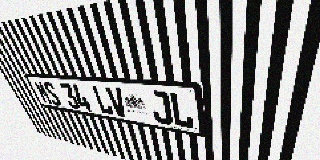3: (59, 83, 81, 110)
4: (70, 84, 93, 112)
J: (148, 90, 173, 125)
L: (169, 92, 194, 129), (91, 85, 114, 115)
M: (33, 81, 53, 105)
S: (42, 81, 63, 106)
V: (105, 87, 129, 118)
